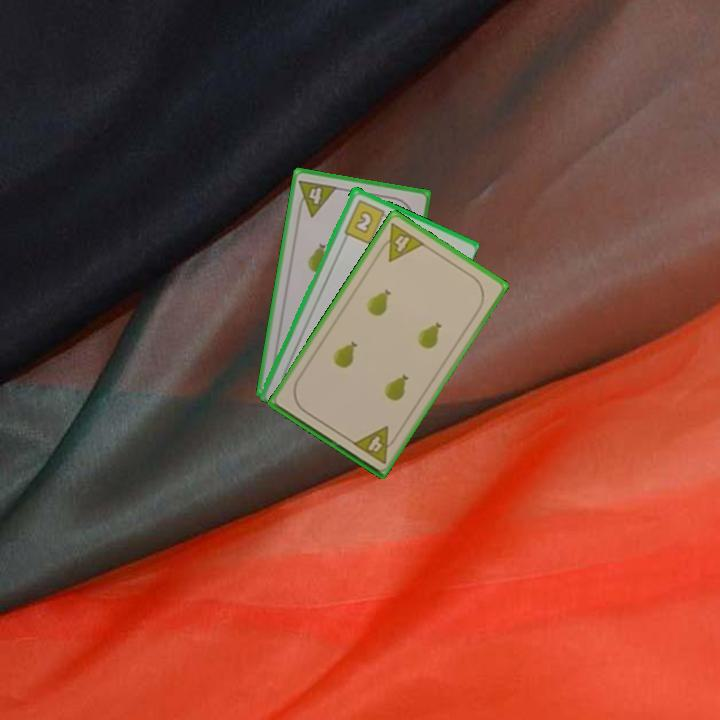2b: (340, 196, 392, 246)
4p: (374, 219, 427, 265), (349, 422, 401, 467), (294, 176, 340, 220)
